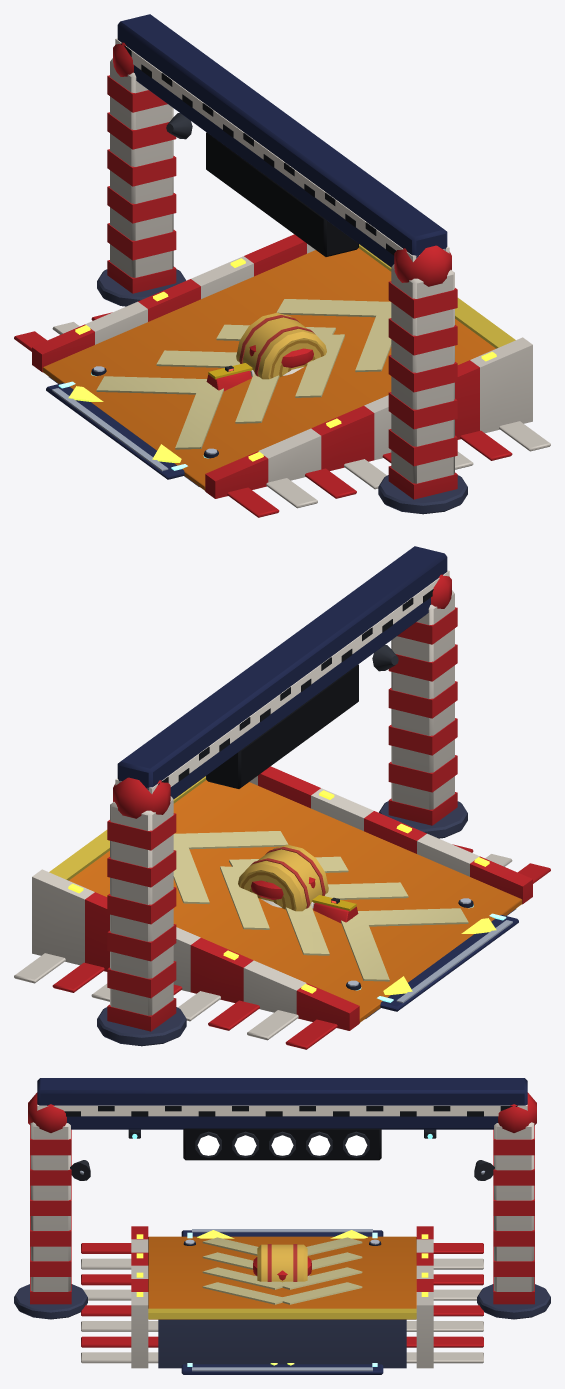
Rendered from track.glb.
3 views of the same model, one above another, from view 1: azimuth 30°, elevation 25°; view 2: azimuth 150°, elevation 25°; view 3: azimuth 270°, elevation 25° (orthographic). The views are drawn at different scales.
Parts seen in each view (by area): view 1: track-ramp, body, track-rumble_bars, track-hay_bale, track-boost_pad, track-barrier_segment; view 2: track-ramp, body, track-rumble_bars, track-hay_bale, track-boost_pad, track-barrier_segment; view 3: body, track-ramp, track-rumble_bars, track-boost_pad, track-hay_bale.
Part boxes in pixels (<box>): track-ramp: <box>32,234,532,498</box>; body: <box>97,14,467,514</box>; track-rumble_bars: <box>14,312,550,517</box>; track-hay_bale: <box>236,312,326,379</box>; track-boost_pad: <box>46,366,218,479</box>; track-barrier_segment: <box>206,363,254,391</box>; track-ramp: <box>32,766,532,1030</box>; body: <box>97,546,467,1046</box>; track-rumble_bars: <box>14,844,550,1049</box>; track-hay_bale: <box>238,844,328,911</box>; track-boost_pad: <box>346,898,518,1011</box>; track-barrier_segment: <box>310,895,358,923</box>; body: <box>14,1078,550,1319</box>; track-ramp: <box>131,1226,433,1368</box>; track-rumble_bars: <box>81,1243,483,1363</box>; track-boost_pad: <box>181,1229,383,1374</box>; track-hay_bale: <box>257,1244,307,1282</box>.
Bounding box in the file's own units: 10 × 7.25 × 16.
